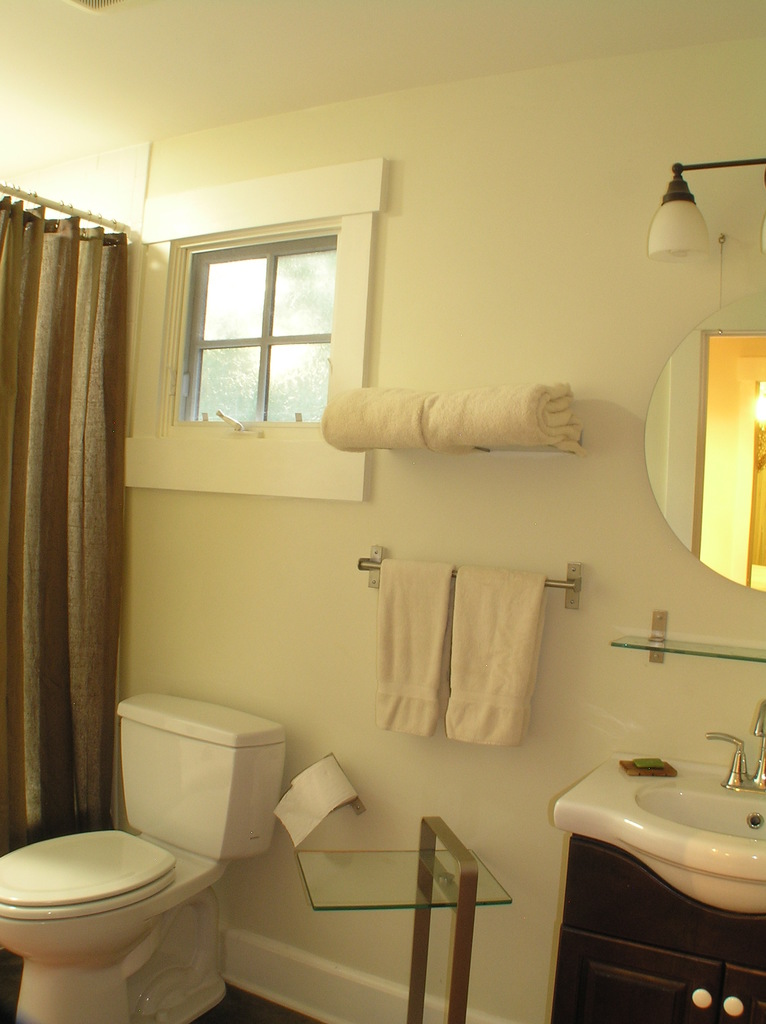tap: (750, 702, 765, 787)
